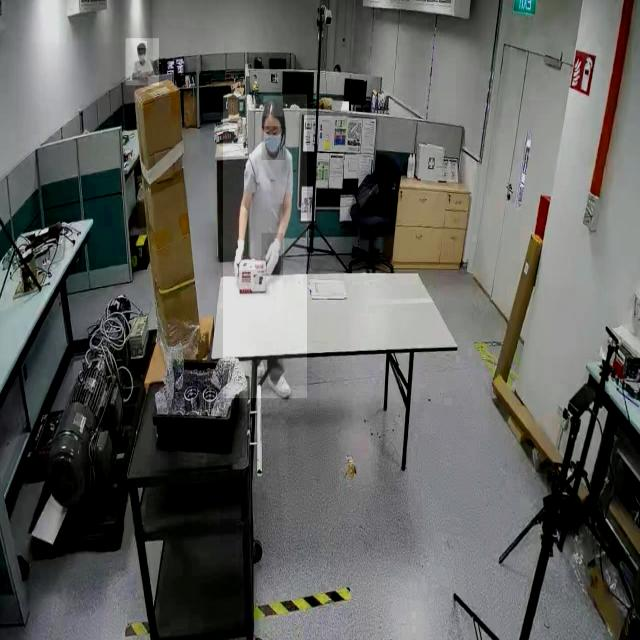face_mask: (262, 126, 286, 160)
hand_glove: (261, 233, 283, 277), (231, 233, 251, 277)
head_nohelmet: (263, 96, 283, 117), (137, 41, 147, 49)
person: (223, 94, 307, 399), (125, 38, 159, 86)
shoes: (264, 360, 291, 403)
